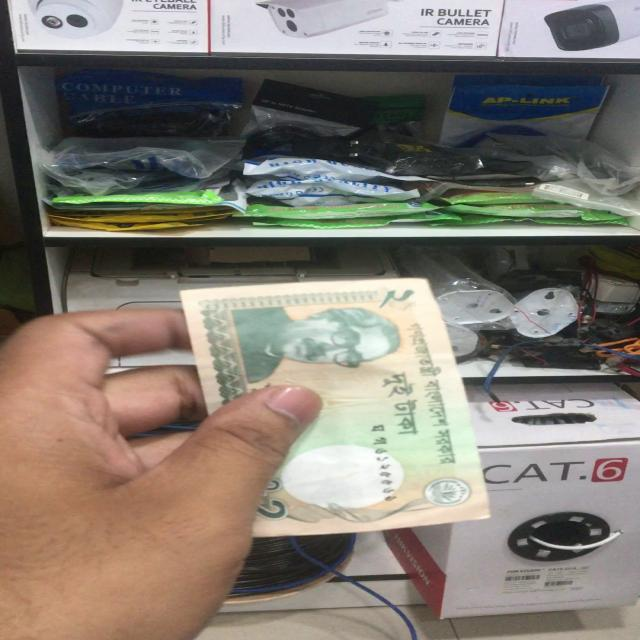Taka: (174, 276, 496, 536)
